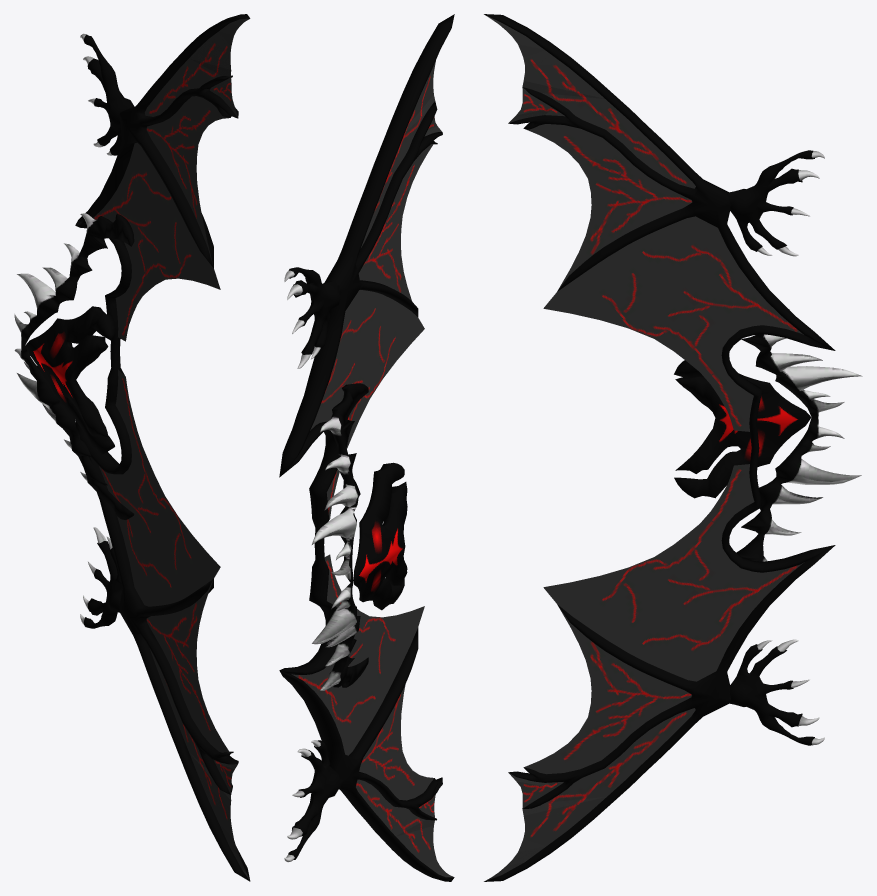
File: bow01a_432207a0.glb
3 views of the same model, side by side, from view 1: azimuth 30°, elevation 25°; view 2: azimuth 150°, elevation 25°; view 3: azimuth 270°, elevation 25° (orthographic).
Size of the model in its own units: 0.3377 by 3.49 by 1.38.
1 material, 1 textured.
